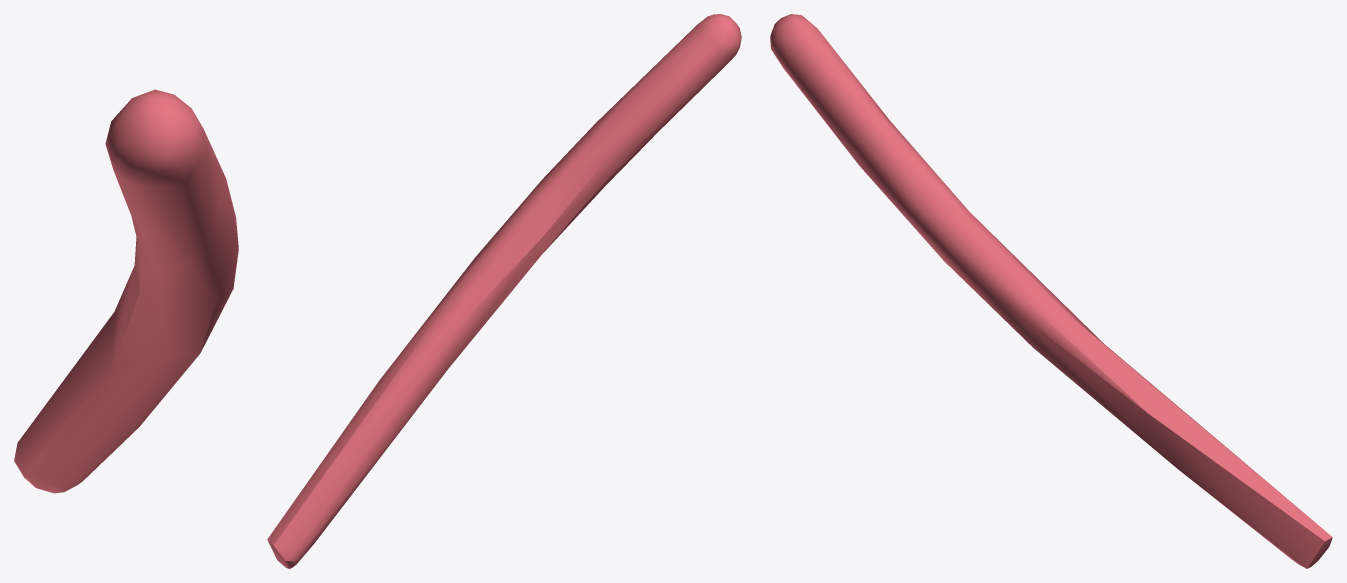
The model's file is fma9451_fj2949.glb.
3 renders of one model, left to right at view 1: azimuth 30°, elevation 25°; view 2: azimuth 150°, elevation 25°; view 3: azimuth 270°, elevation 25°, orthographic. The views are drawn at different scales.
Visible parts, largest first — view 1: FMA9451_FJ2949; view 2: FMA9451_FJ2949; view 3: FMA9451_FJ2949.
Boxes of the visible parts, left/top/right/bottom form: FMA9451_FJ2949: left=14, top=89, right=238, bottom=493; FMA9451_FJ2949: left=267, top=14, right=741, bottom=568; FMA9451_FJ2949: left=770, top=14, right=1332, bottom=568.
Size of the model in its own units: 0.014 by 0.0253 by 0.0285.
